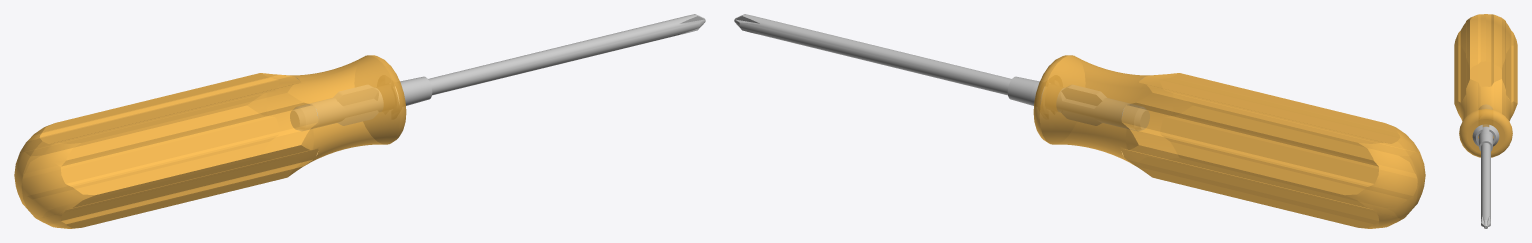
Rendered from ScrewDriver.dae.
3 views of the same model, side by side, from view 1: azimuth 30°, elevation 25°; view 2: azimuth 150°, elevation 25°; view 3: azimuth 270°, elevation 25° (orthographic). The views are drawn at different scales.
Parts seen in each view (by area): view 1: group_1 (×2), group_2 (×2); view 2: group_1 (×2), group_2 (×2); view 3: group_1 (×2), group_2 (×2), group_0 (×2).
Part boxes in pixels (<box>): group_1 (×2): <box>14,55,406,228</box>; group_2 (×2): <box>290,14,705,130</box>; group_1 (×2): <box>1033,55,1425,228</box>; group_2 (×2): <box>734,14,1149,130</box>; group_1 (×2): <box>1454,14,1517,157</box>; group_2 (×2): <box>1478,104,1493,228</box>; group_0 (×2): <box>1472,125,1499,146</box>.
Bounding box in the file's own units: 9.45 × 1.3 × 1.12.
